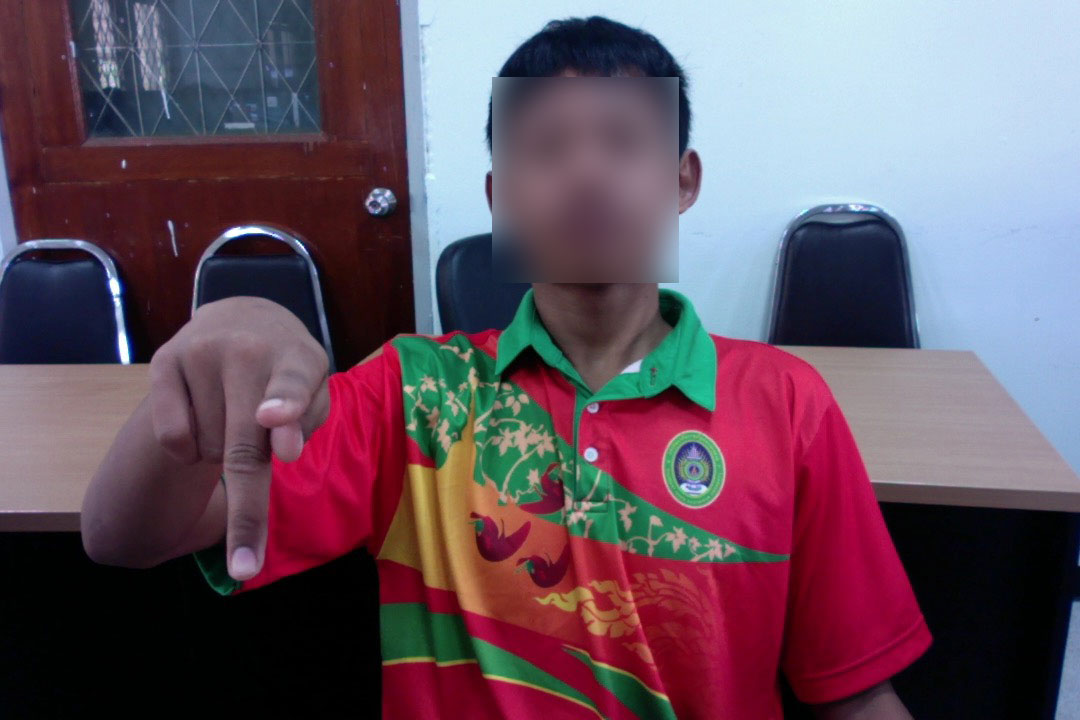por: (134, 285, 346, 598)
